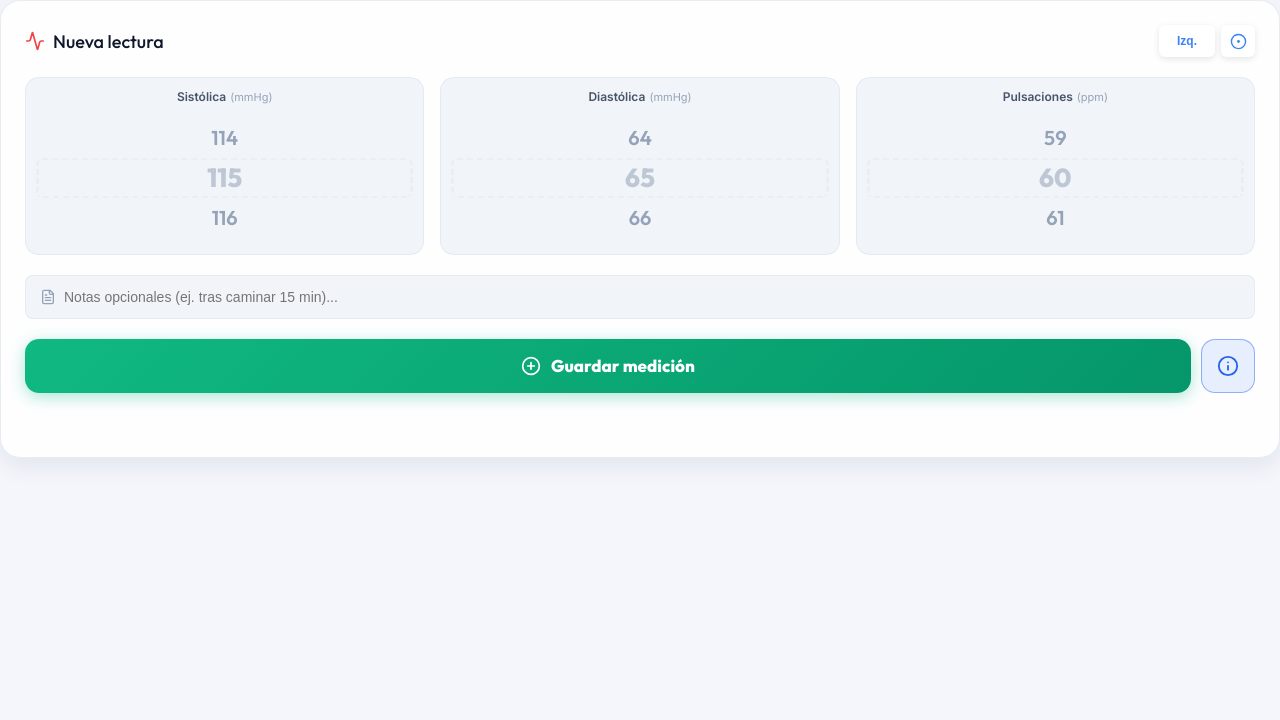
Test: ReadingForm defensivo › no guarda las referencias visuales de la rueda si no se han seleccionado las tres columnas
The image size is (1280, 720).
(page scrolled)
Click the option with class "reference" showing "115". click: (225,178)
box: 36,158 -> 413,198
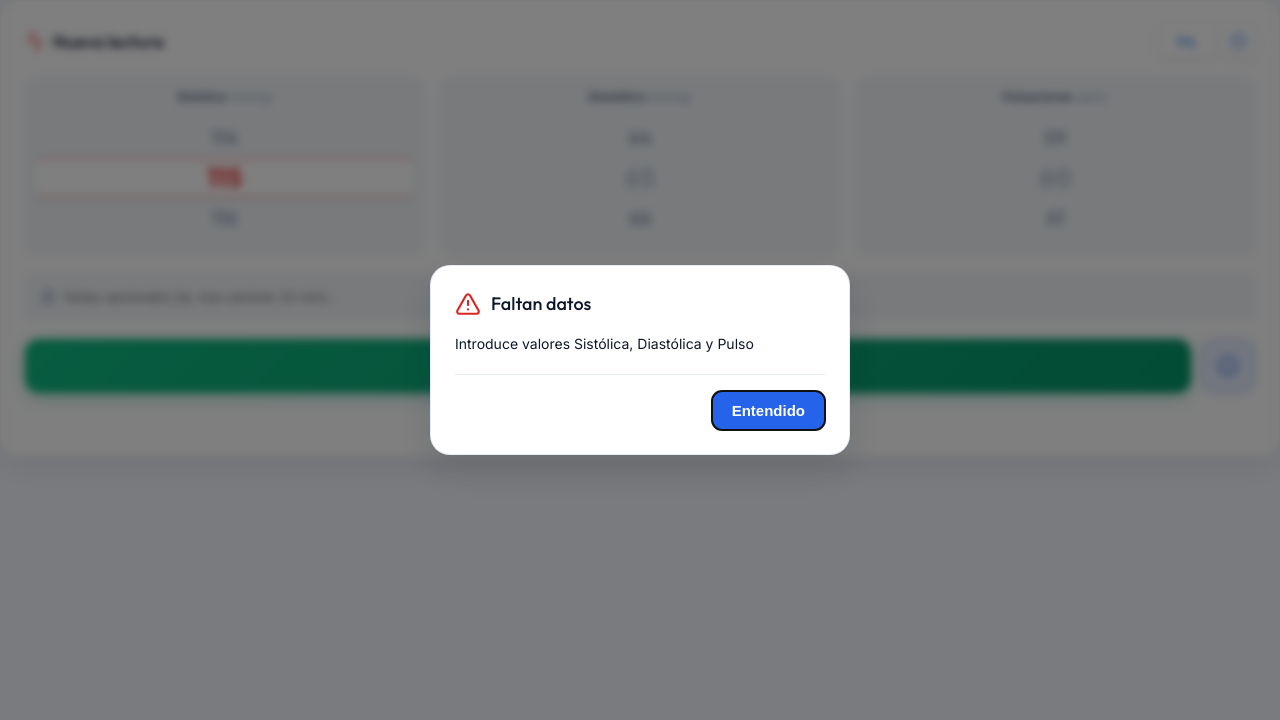
Check: the text with class "form-alert-message" reads "Introduce valores Sistólica, Diastólica y Pulso", box 455,335 -> 754,352
